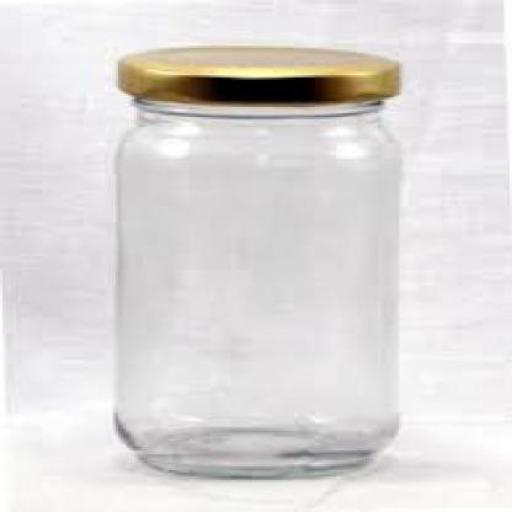glass: (110, 96, 395, 474)
metal: (115, 45, 397, 101)
